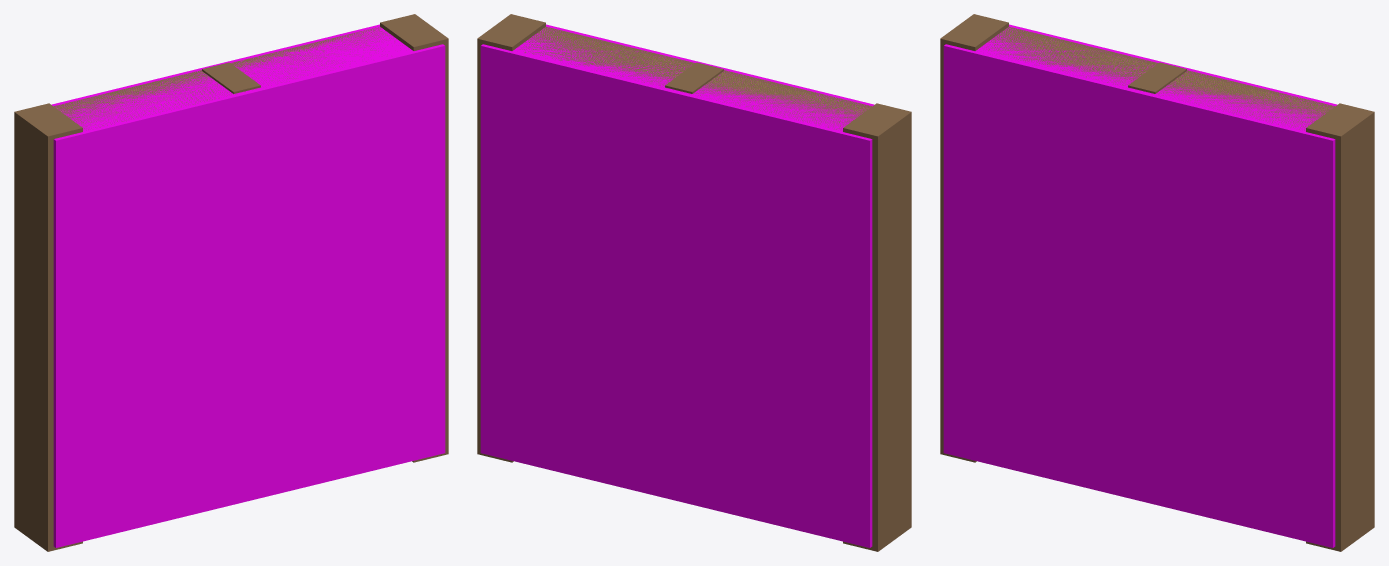
File: wall.glb
The picture shows the model from 3 angles, left to right: view 1: azimuth 30°, elevation 25°; view 2: azimuth 150°, elevation 25°; view 3: azimuth 330°, elevation 25°; orthographic projection.
Visible parts, largest first — view 1: Col_main, M_b1; view 2: Col_main, M_b1, M_b0; view 3: Col_main, M_b1, M_b0.
Part boxes in pixels (<box>): Col_main: <box>51,24,445,547</box>; M_b1: <box>14,14,448,551</box>; Col_main: <box>480,24,874,547</box>; M_b1: <box>477,14,911,551</box>; M_b0: <box>540,30,867,123</box>; Col_main: <box>943,24,1337,547</box>; M_b1: <box>940,14,1374,551</box>; M_b0: <box>1004,30,1331,122</box>.
Bounding box in the file's own units: 2.06 × 2.04 × 0.34.
